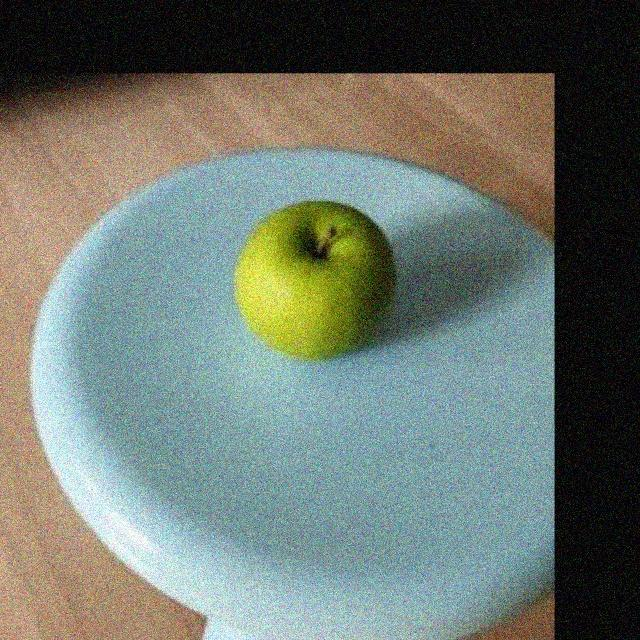green apple: (228, 200, 396, 363)
